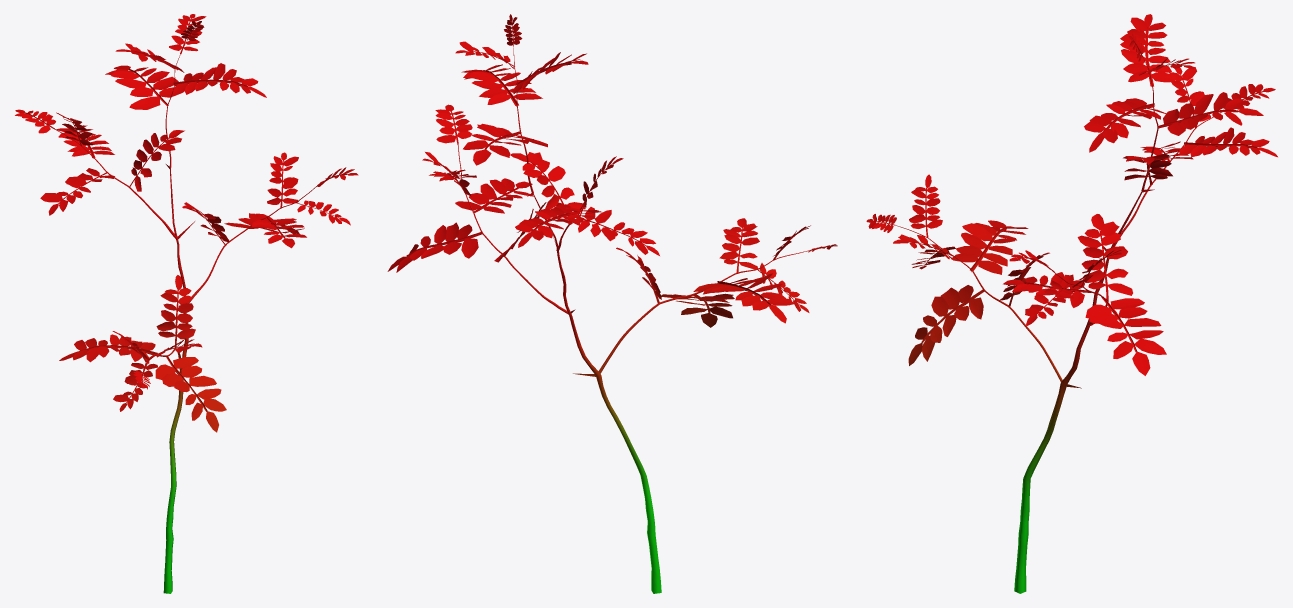
The model's file is Black Locust_LOD1_Var7.fbx.
The picture shows the model from 3 angles, left to right: view 1: azimuth 30°, elevation 25°; view 2: azimuth 150°, elevation 25°; view 3: azimuth 270°, elevation 25°; orthographic projection. The views are drawn at different scales.
Parts seen in each view (by area): view 1: _j6w5_Var7_LOD1; view 2: _j6w5_Var7_LOD1; view 3: _j6w5_Var7_LOD1.
Boxes of the visible parts, x1=… form: _j6w5_Var7_LOD1: x1=15, y1=14, x2=358, y2=593; _j6w5_Var7_LOD1: x1=387, y1=14, x2=837, y2=593; _j6w5_Var7_LOD1: x1=866, y1=14, x2=1277, y2=593.
Size of the model in its own units: 66.44 by 109 by 67.96.
